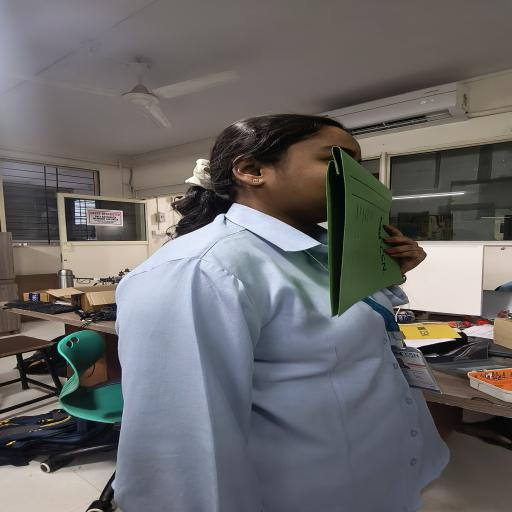survivor: (112, 113, 452, 512)
